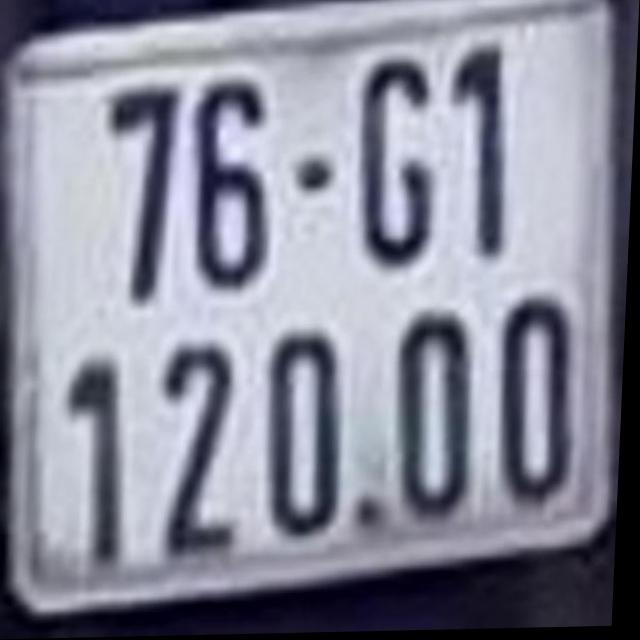0: (494, 295, 585, 504), (391, 313, 479, 514), (266, 334, 347, 538)
1: (445, 46, 531, 264), (64, 354, 146, 570)
2: (160, 340, 252, 558)
6: (188, 77, 278, 293)
7: (102, 89, 181, 300)
G: (350, 57, 444, 267)
